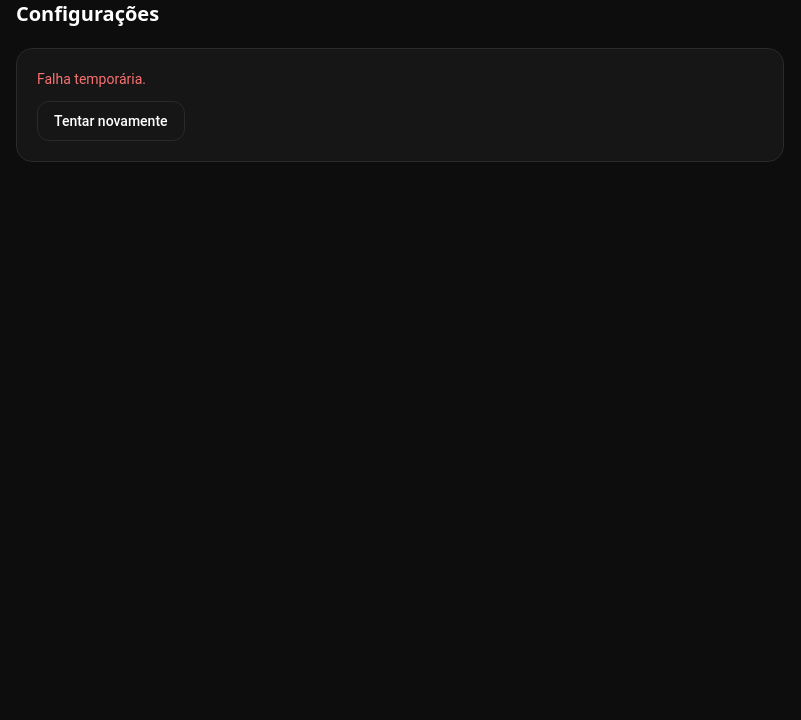
Test: SettingsPage carregamento e perfil › repete as duas leituras e hidrata os valores reais após recuperar a carga
This screenshot has width=801, height=720.
Later steps or results of the test are not shown.
Click the button "Tentar novamente" at (111, 121), box top-left (37, 101), bottom-right (185, 141)
(page scrolled)
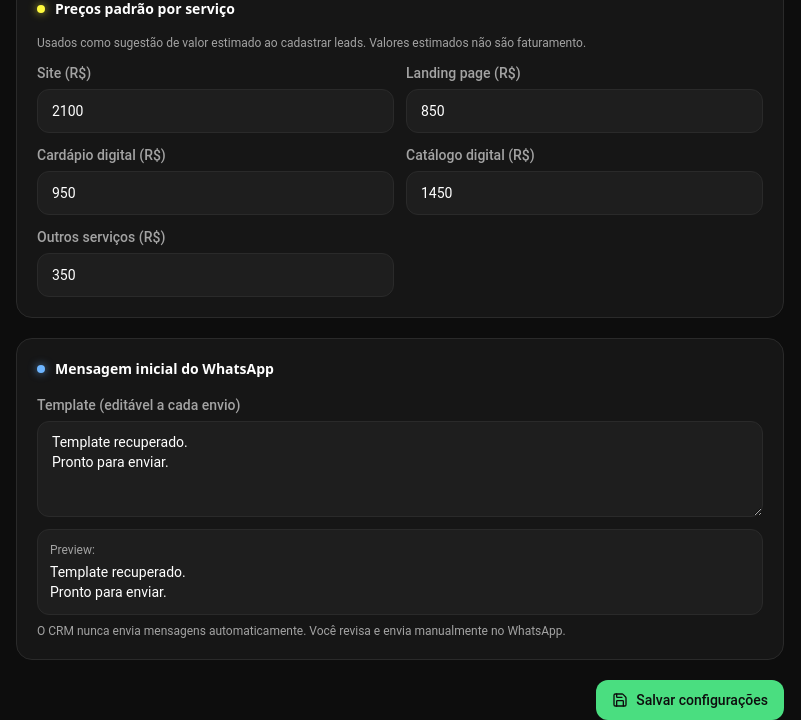
Expected: the button "Salvar configurações" is enabled, top-left (596, 680), bottom-right (784, 719)
Result: the number field labelled "Site (R$)" holds "2100" at top-left (37, 89), bottom-right (394, 133)
Result: the message "Falha temporária. Tentar novamente" is gone
